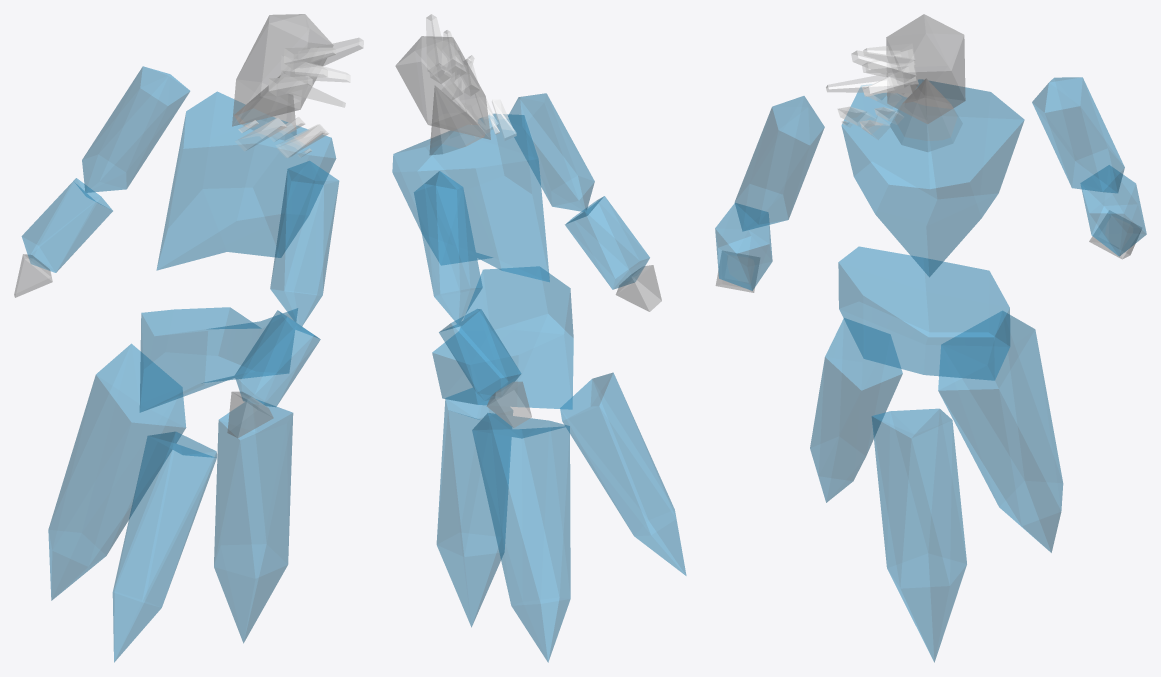
File: ghostChargingLunge8.obj
The picture shows the model from 3 angles, left to right: view 1: azimuth 30°, elevation 25°; view 2: azimuth 150°, elevation 25°; view 3: azimuth 270°, elevation 25°; orthographic projection. The views are drawn at different scales.
Visible parts, largest first — view 1: Cube.001_Cube.006, Icosphere.017, Icosphere.016, Icosphere.015, Cube_Cube.006, Icosphere.005_Icosphere.005, Icosphere.007_Icosphere.005, Icosphere.003_Icosphere.006, Icosphere.006_Icosphere.005, Icosphere.008_Icosphere.005, Cone_Cone.006, Cube.002_Cube.006 (+8 smaller); view 2: Cube.001_Cube.006, Icosphere.017, Cube_Cube.006, Icosphere.016, Icosphere.015, Icosphere.007_Icosphere.005, Icosphere.003_Icosphere.006, Icosphere.005_Icosphere.005, Icosphere.006_Icosphere.005, Icosphere.008_Icosphere.005, Cone_Cone.006, Cube.002_Cube.006 (+5 smaller); view 3: Cube.001_Cube.006, Icosphere.017, Cube_Cube.006, Icosphere.016, Icosphere.015, Icosphere.005_Icosphere.005, Icosphere.003_Icosphere.006, Icosphere.007_Icosphere.005, Icosphere.008_Icosphere.005, Icosphere.006_Icosphere.005, Cone_Cone.006, Cube.003_Cube.006 (+4 smaller).
Part boxes in pixels (x1,y1,x2,y2): Cube.001_Cube.006: [156, 91, 336, 270]; Icosphere.017: [48, 343, 186, 600]; Icosphere.016: [214, 400, 293, 643]; Icosphere.015: [112, 431, 216, 662]; Cube_Cube.006: [139, 307, 297, 412]; Icosphere.005_Icosphere.005: [270, 161, 339, 328]; Icosphere.007_Icosphere.005: [82, 66, 189, 192]; Icosphere.003_Icosphere.006: [232, 14, 333, 126]; Icosphere.006_Icosphere.005: [234, 310, 320, 407]; Icosphere.008_Icosphere.005: [21, 178, 112, 272]; Cone_Cone.006: [234, 73, 296, 140]; Cube.002_Cube.006: [227, 391, 273, 437]; Cube.001_Cube.006: [392, 113, 549, 282]; Icosphere.017: [472, 413, 570, 662]; Cube_Cube.006: [432, 266, 573, 409]; Icosphere.016: [436, 388, 512, 627]; Icosphere.015: [560, 372, 686, 575]; Icosphere.007_Icosphere.005: [414, 171, 482, 324]; Icosphere.003_Icosphere.006: [395, 36, 490, 139]; Icosphere.005_Icosphere.005: [508, 93, 594, 211]; Icosphere.006_Icosphere.005: [565, 196, 649, 289]; Icosphere.008_Icosphere.005: [439, 309, 521, 400]; Cone_Cone.006: [429, 86, 484, 154]; Cube.002_Cube.006: [616, 265, 661, 311]; Cube.001_Cube.006: [841, 79, 1024, 277]; Icosphere.017: [938, 311, 1063, 552]; Cube_Cube.006: [838, 246, 1010, 380]; Icosphere.016: [871, 408, 966, 662]; Icosphere.015: [810, 318, 902, 502]; Icosphere.005_Icosphere.005: [734, 96, 824, 231]; Icosphere.003_Icosphere.006: [886, 14, 965, 123]; Icosphere.007_Icosphere.005: [1032, 77, 1124, 193]; Icosphere.008_Icosphere.005: [1080, 165, 1146, 256]; Icosphere.006_Icosphere.005: [715, 203, 772, 290]; Cone_Cone.006: [890, 78, 962, 151]; Cube.003_Cube.006: [1089, 210, 1141, 259].
Bounding box in the file's own units: 21.78 × 48.32 × 28.66.
